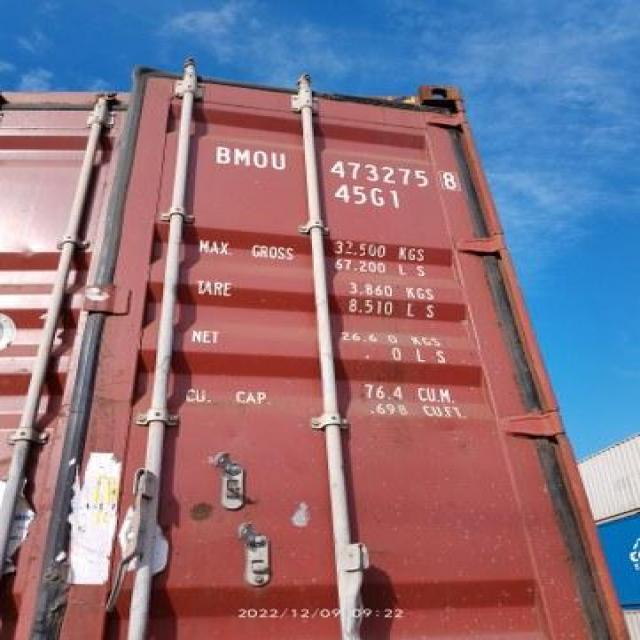container_number_h: (192, 128, 503, 218)
